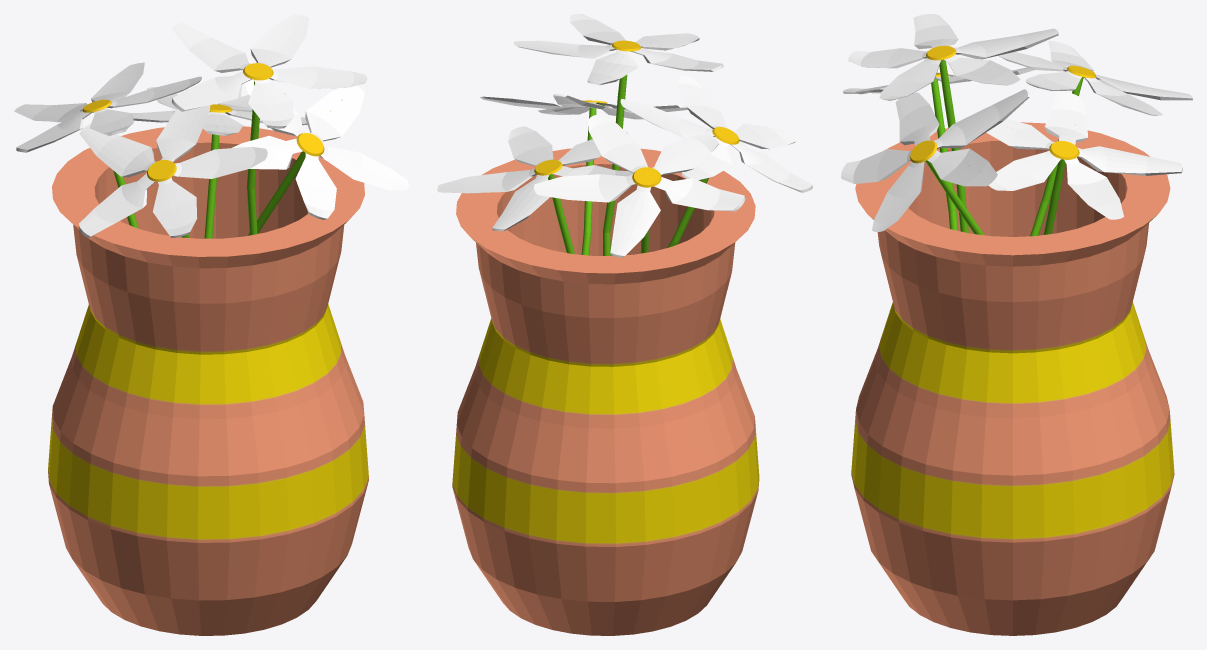
File: BVase_Flower.fbx
3 views of the same model, side by side, from view 1: azimuth 30°, elevation 25°; view 2: azimuth 150°, elevation 25°; view 3: azimuth 270°, elevation 25° (orthographic). The views are drawn at different scales.
Visible parts, largest first — view 1: Cylinder; view 2: Cylinder; view 3: Cylinder.
Boxes of the visible parts, x1,y1,x2,y2 form: Cylinder: [14, 14, 408, 635]; Cylinder: [437, 14, 812, 635]; Cylinder: [841, 14, 1192, 635].
Size of the model in its own units: 65.88 by 111 by 63.79.
